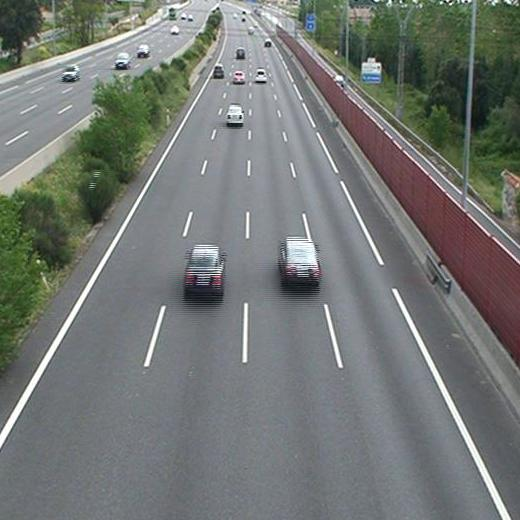car: (184, 246, 224, 292), (279, 238, 320, 282), (226, 106, 243, 123), (254, 69, 267, 81), (232, 71, 245, 83), (213, 64, 224, 77), (236, 48, 246, 58)
